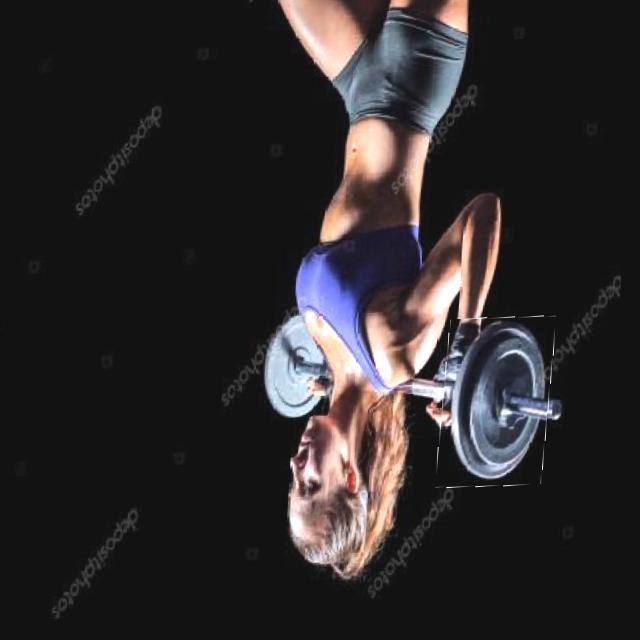barbell: (444, 322, 560, 497)
